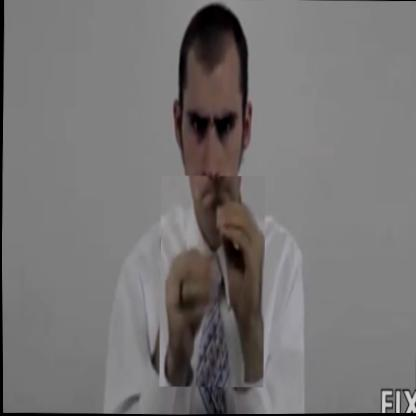Fix: (157, 174, 266, 388)
